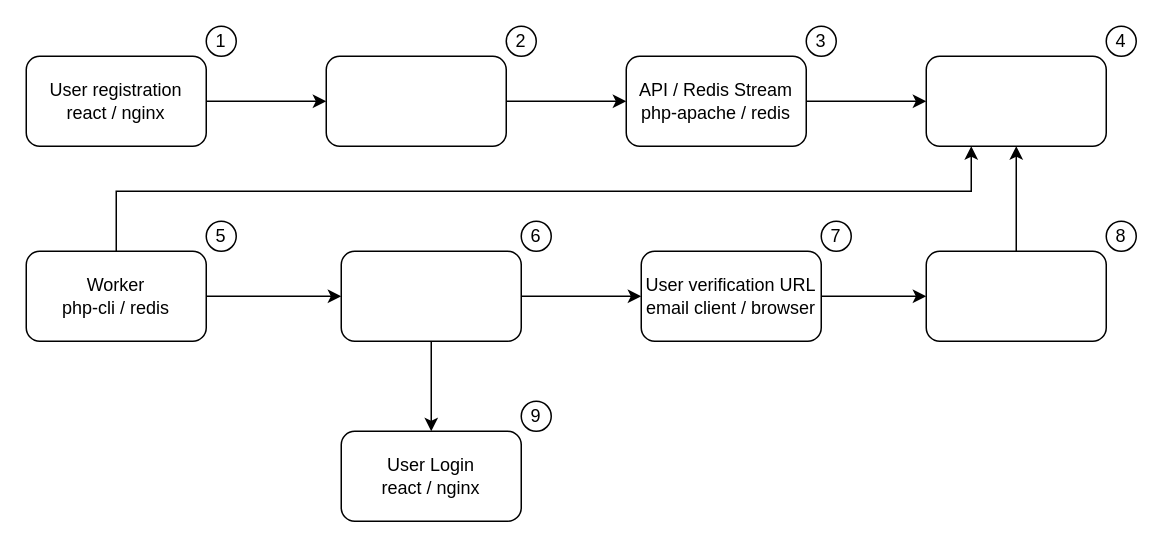
The diagram is 1163 pixels wide and 548 high, and some of its shapes have lost their labels. Each missing label, with the centre of its shape:
API / DB Create php-apache / mysql: point (415, 100)
API / DB Update php-apache / mysql: point (1015, 295)
Email Notification external smtp: point (430, 295)
Notification Event redis: point (1015, 100)
